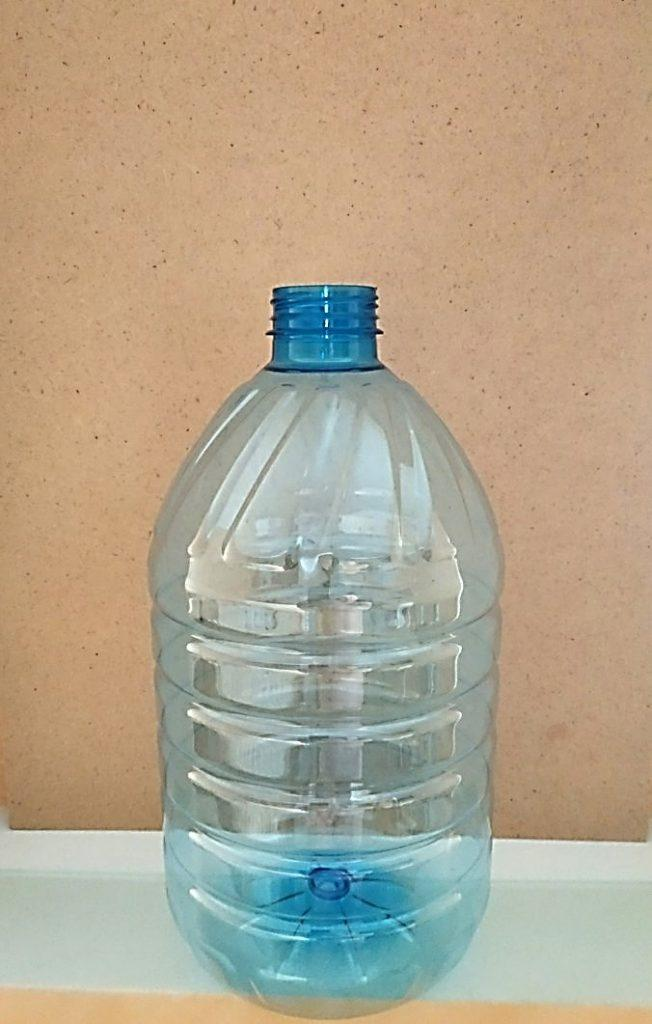plastic: (150, 285, 502, 1012)
